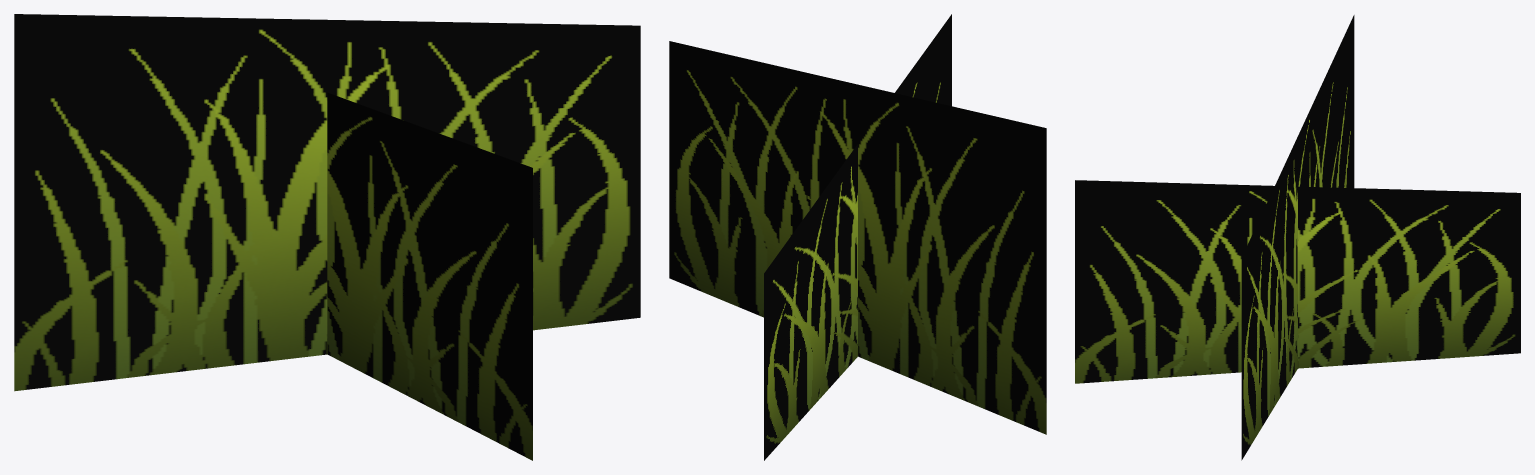
The model's file is Grass5.glb.
The picture shows the model from 3 angles, left to right: view 1: azimuth 30°, elevation 25°; view 2: azimuth 150°, elevation 25°; view 3: azimuth 270°, elevation 25°; orthographic projection. The views are drawn at different scales.
Visible parts, largest first — view 1: Type_2_Grass_1_LOD0; view 2: Type_2_Grass_1_LOD0; view 3: Type_2_Grass_1_LOD0.
Part boxes in pixels (bbox=[...]): Type_2_Grass_1_LOD0: bbox=[14, 14, 640, 460]; Type_2_Grass_1_LOD0: bbox=[669, 14, 1046, 460]; Type_2_Grass_1_LOD0: bbox=[1075, 15, 1520, 460].
Size of the model in its own units: 1.05 by 0.6936 by 1.07.
Materials: 1 (1 with a texture image).
